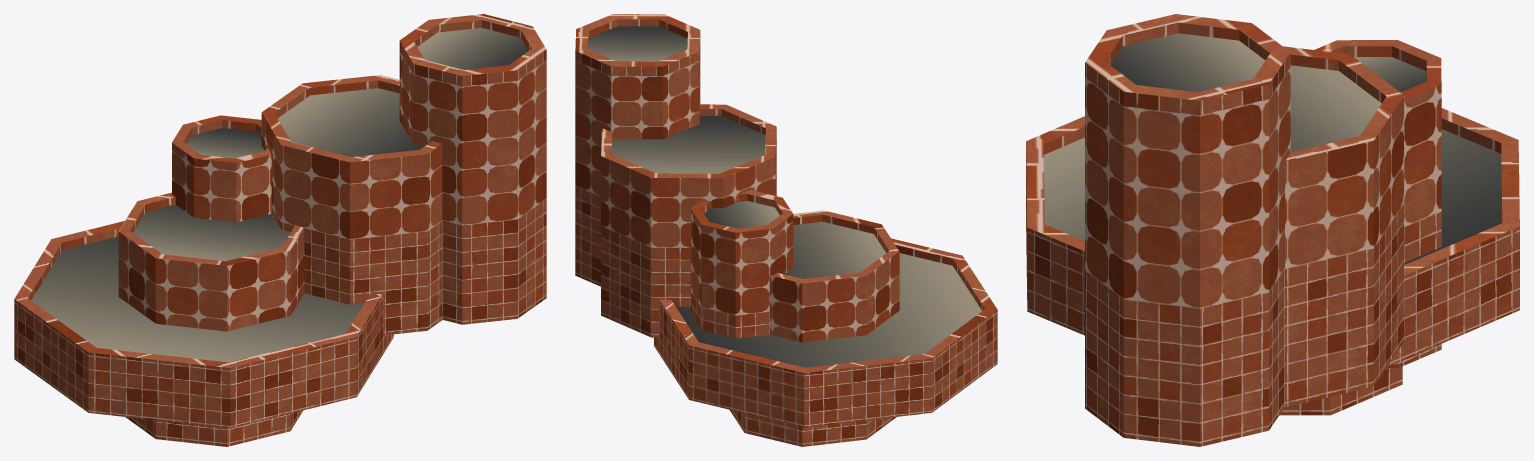
File: Planter.fbx
3 renders of one model, left to right at view 1: azimuth 30°, elevation 25°; view 2: azimuth 150°, elevation 25°; view 3: azimuth 270°, elevation 25°, orthographic. The views are drawn at different scales.
Visible parts, largest first — view 1: Cylinder.033; view 2: Cylinder.033; view 3: Cylinder.033.
Part boxes in pixels (<box>): Cylinder.033: <box>14,14,546,446</box>; Cylinder.033: <box>575,14,997,446</box>; Cylinder.033: <box>1026,14,1519,446</box>.
Bounding box in the file's own units: 2782 × 1925 × 1874.
